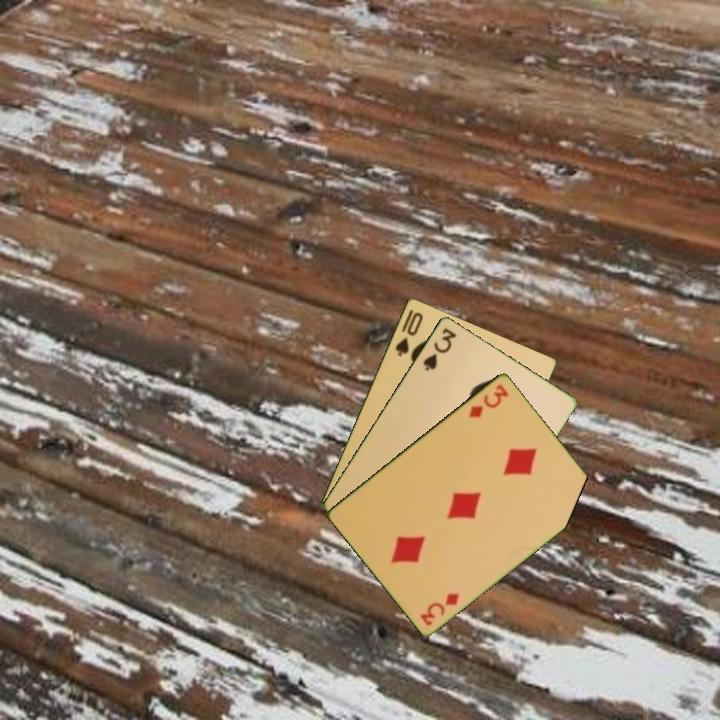10s: (391, 308, 426, 359)
3d: (465, 380, 512, 421), (417, 589, 462, 628)
3s: (419, 324, 459, 374)
